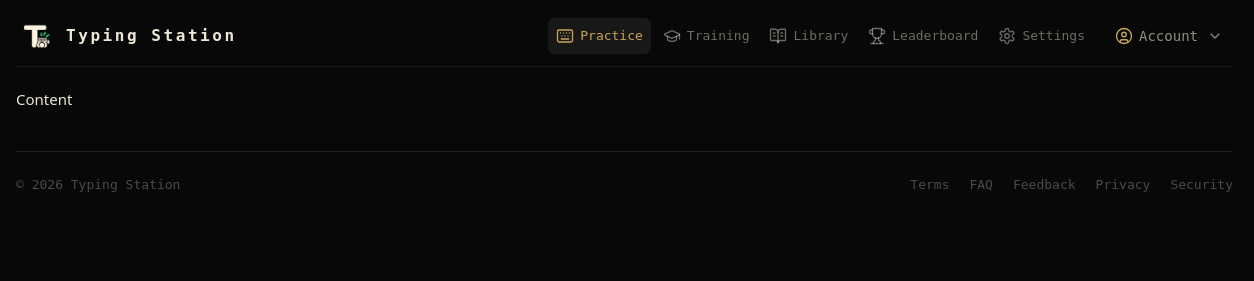
Scenario: AppShell account dropdown › does not use display name as an account label fallback and closes on Escape
Click the button with aria-label "account menu".
click(1169, 36)  # box x1=1105 y1=20 x2=1233 y2=52
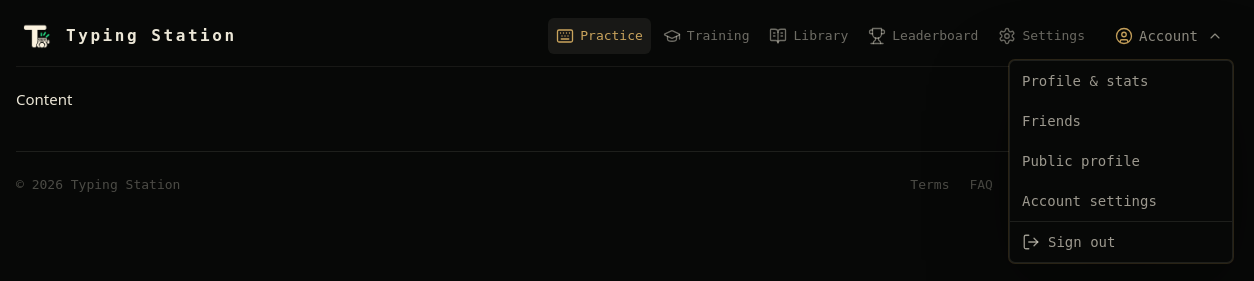
Result: the menu is shown at x1=1009 y1=60 x2=1233 y2=263
Press Escape
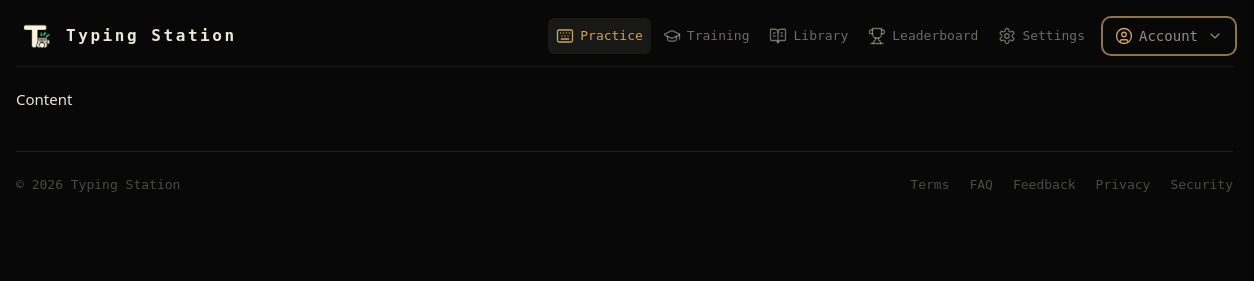
Result: the menu is gone
